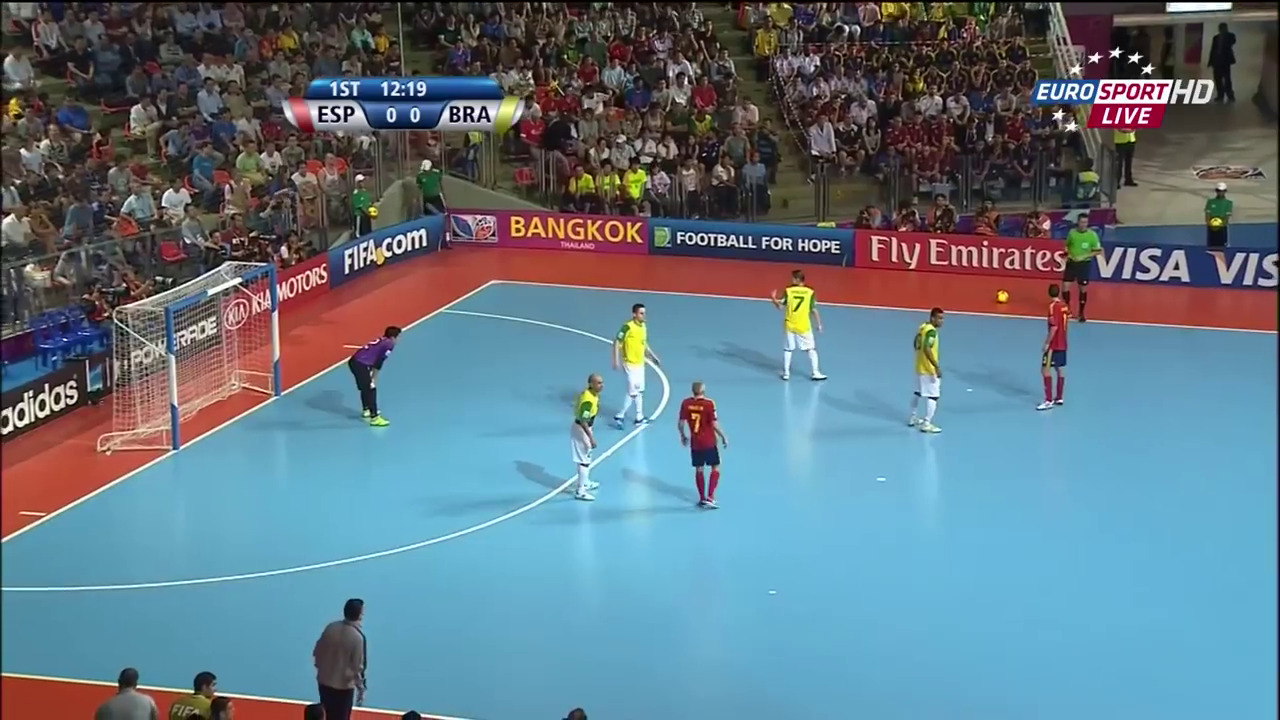ball: (993, 287, 1012, 306)
person: (674, 382, 733, 508), (768, 272, 830, 383), (344, 311, 400, 428), (1033, 272, 1072, 415), (905, 306, 948, 434), (565, 372, 607, 501), (613, 300, 655, 429)
